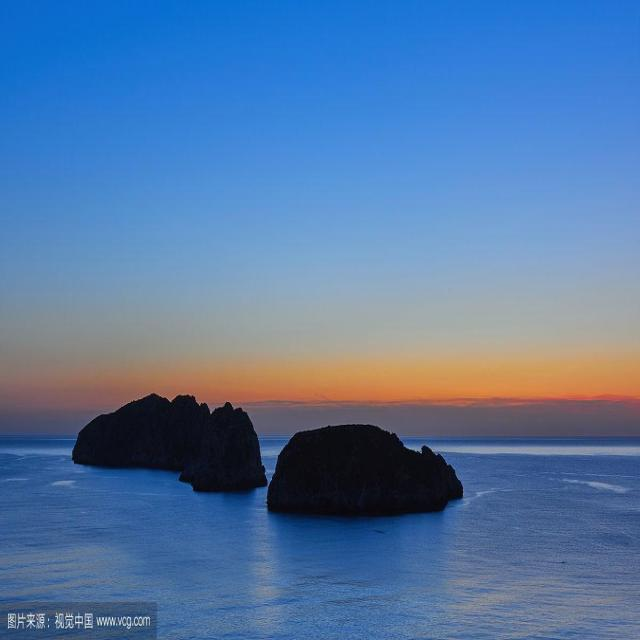island: (68, 379, 468, 526)
